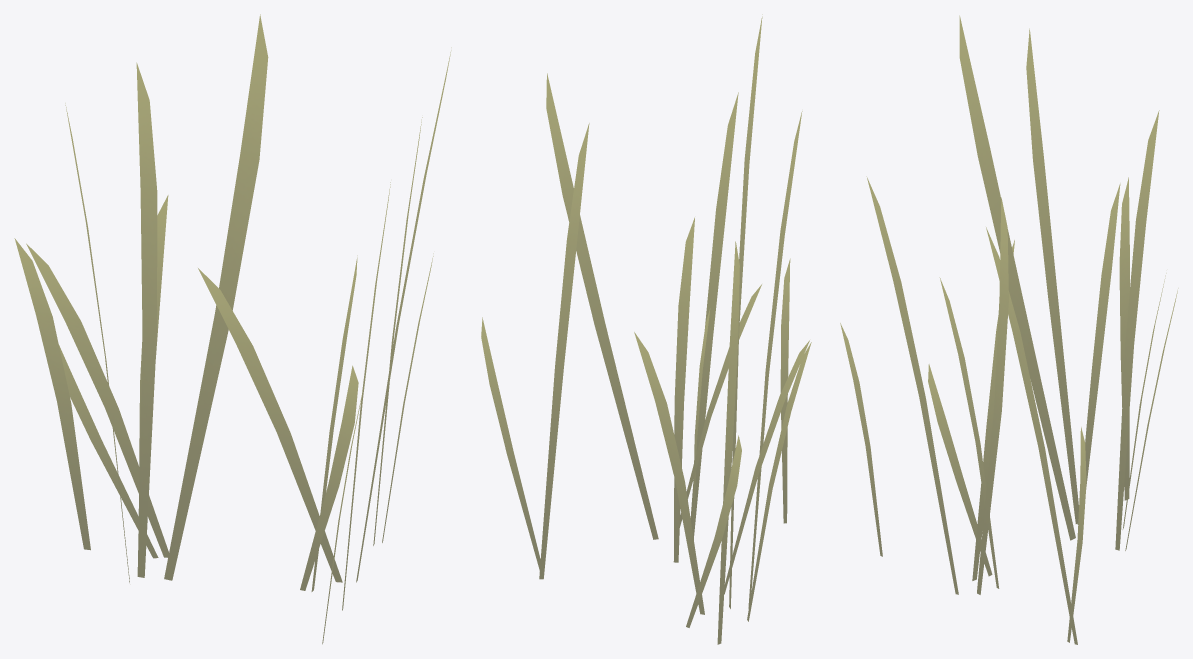
File: SM_detail_grassS_D_LOD0.FBX
The picture shows the model from 3 angles, left to right: view 1: azimuth 30°, elevation 25°; view 2: azimuth 150°, elevation 25°; view 3: azimuth 270°, elevation 25°; orthographic projection. The views are drawn at different scales.
Parts seen in each view (by area): view 1: SM_detail_grassS_D_LOD0; view 2: SM_detail_grassS_D_LOD0; view 3: SM_detail_grassS_D_LOD0.
Part boxes in pixels (x1,y1,x2,y2): SM_detail_grassS_D_LOD0: [14, 14, 451, 644]; SM_detail_grassS_D_LOD0: [481, 14, 811, 644]; SM_detail_grassS_D_LOD0: [840, 15, 1178, 644].
Size of the model in its own units: 115 by 174 by 96.54.
1 material, 1 textured.
